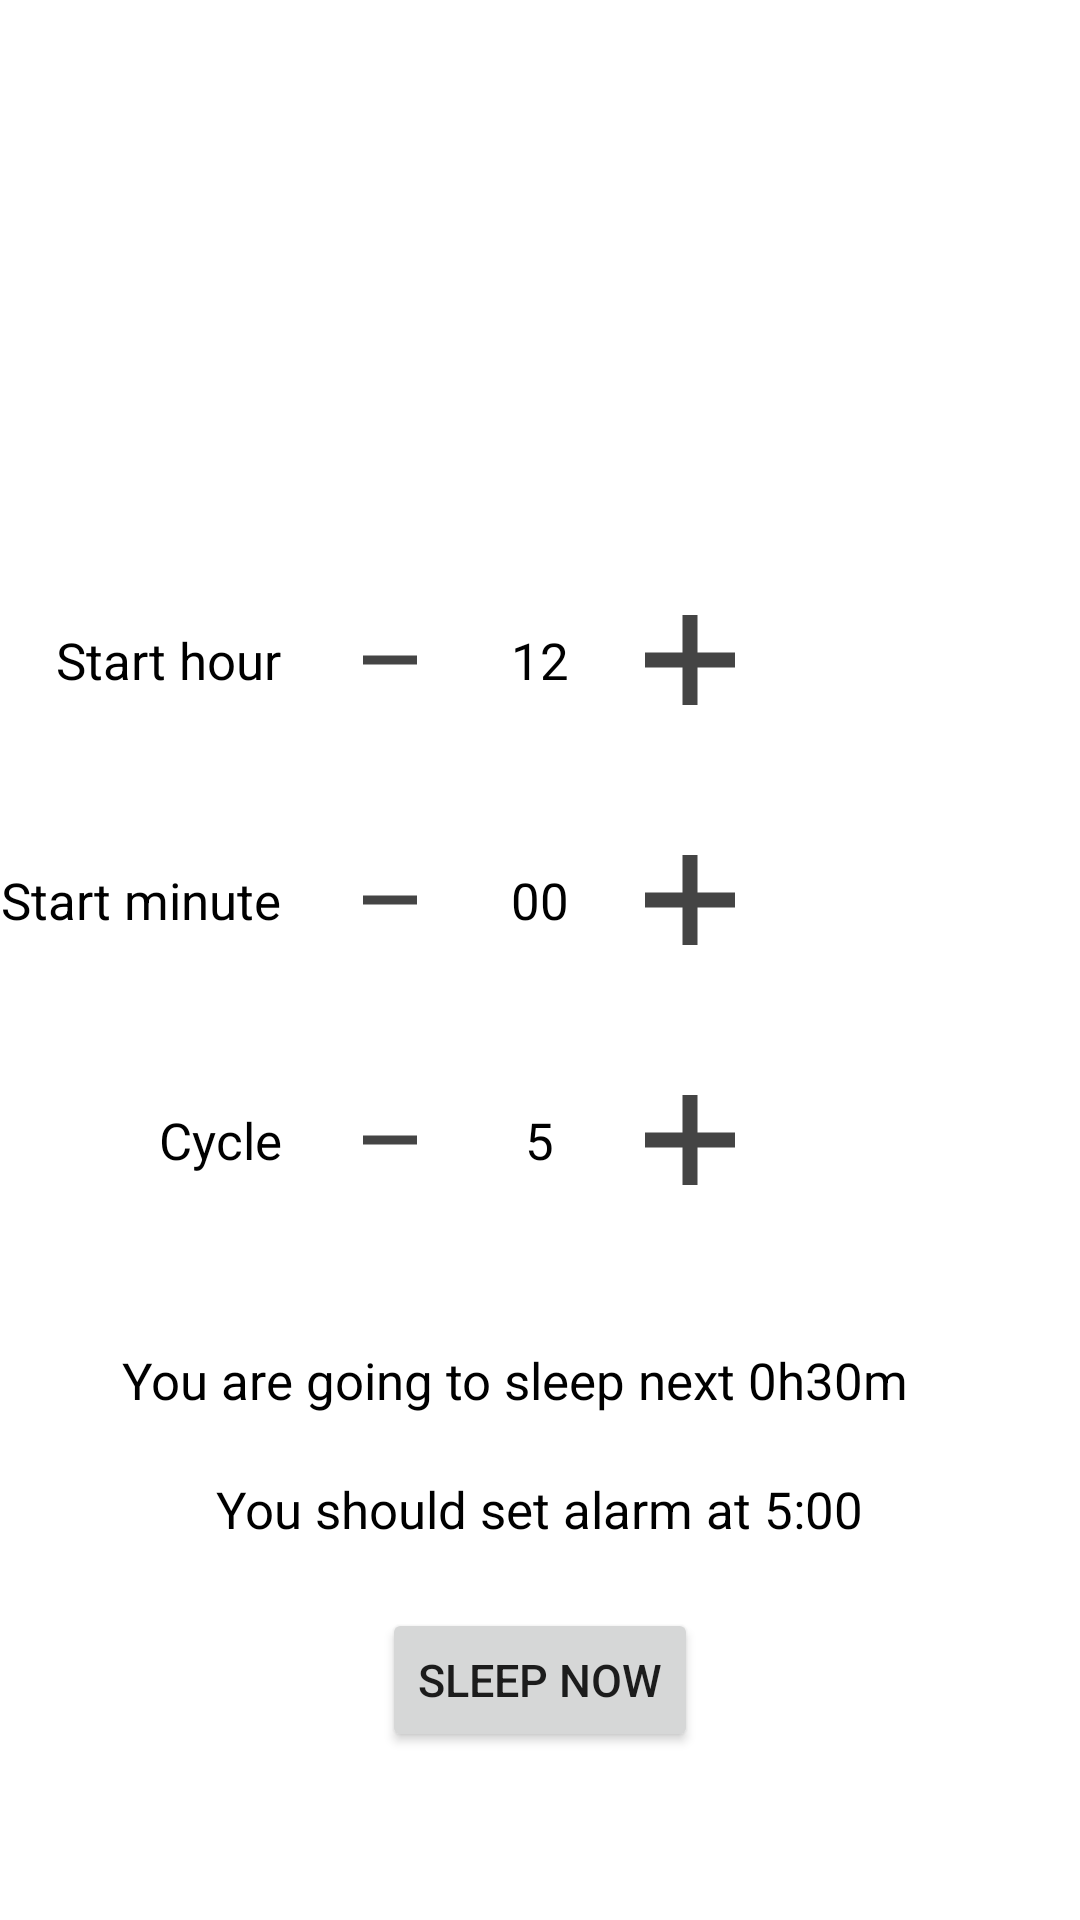

Where to tap for icons on this 1080 × 1920 app screen, as (x=x, y=y):
plus: (x=690, y=660), (x=690, y=900), (x=690, y=1140)
subtract: (x=390, y=660), (x=390, y=900), (x=390, y=1140)
